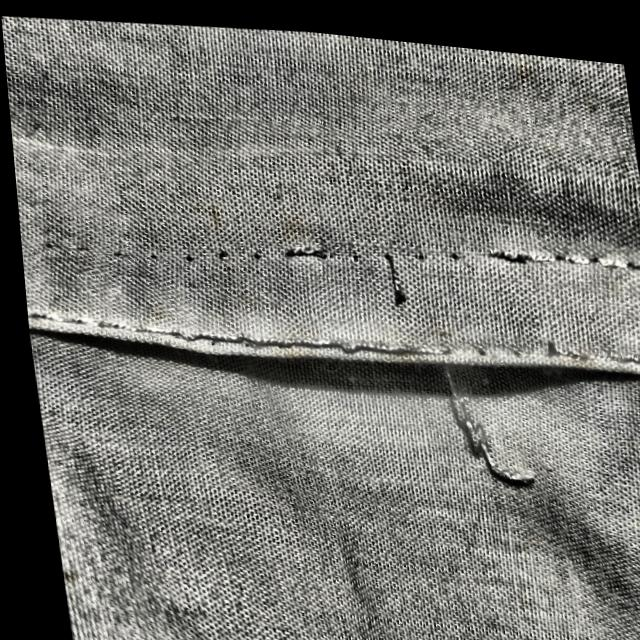Stitch: (239, 195, 548, 394)
